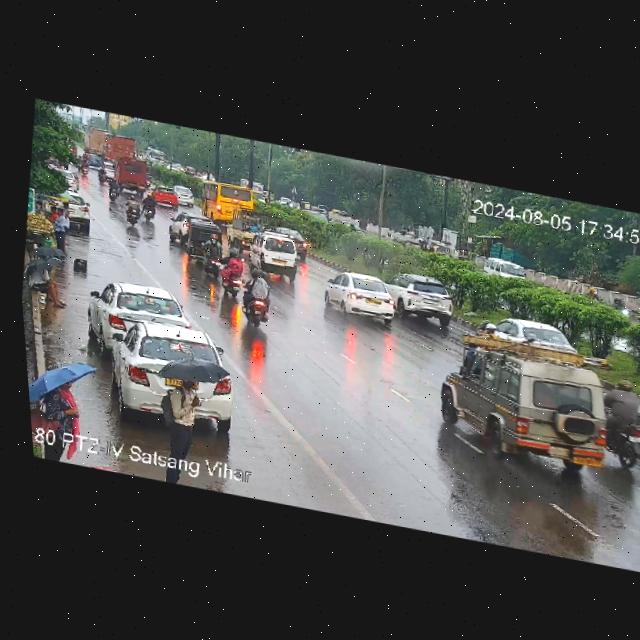bus: (197, 181, 261, 230), (144, 146, 166, 167)
car: (431, 340, 616, 477), (101, 315, 247, 437), (79, 276, 192, 366), (320, 265, 407, 328), (382, 267, 459, 327), (482, 311, 577, 359), (243, 229, 308, 285), (36, 183, 97, 234), (180, 215, 228, 267), (151, 183, 180, 210), (170, 184, 198, 210)
motorcycle: (595, 377, 640, 470), (235, 268, 279, 333), (119, 184, 165, 227), (216, 247, 249, 300), (198, 229, 227, 281), (139, 189, 165, 226), (609, 295, 636, 321), (106, 177, 122, 204), (80, 156, 91, 178), (97, 164, 109, 184)
person: (150, 355, 236, 460), (26, 351, 103, 433), (22, 250, 72, 313), (47, 203, 74, 255)
truck: (110, 154, 153, 194), (98, 130, 142, 168), (80, 123, 111, 157)
